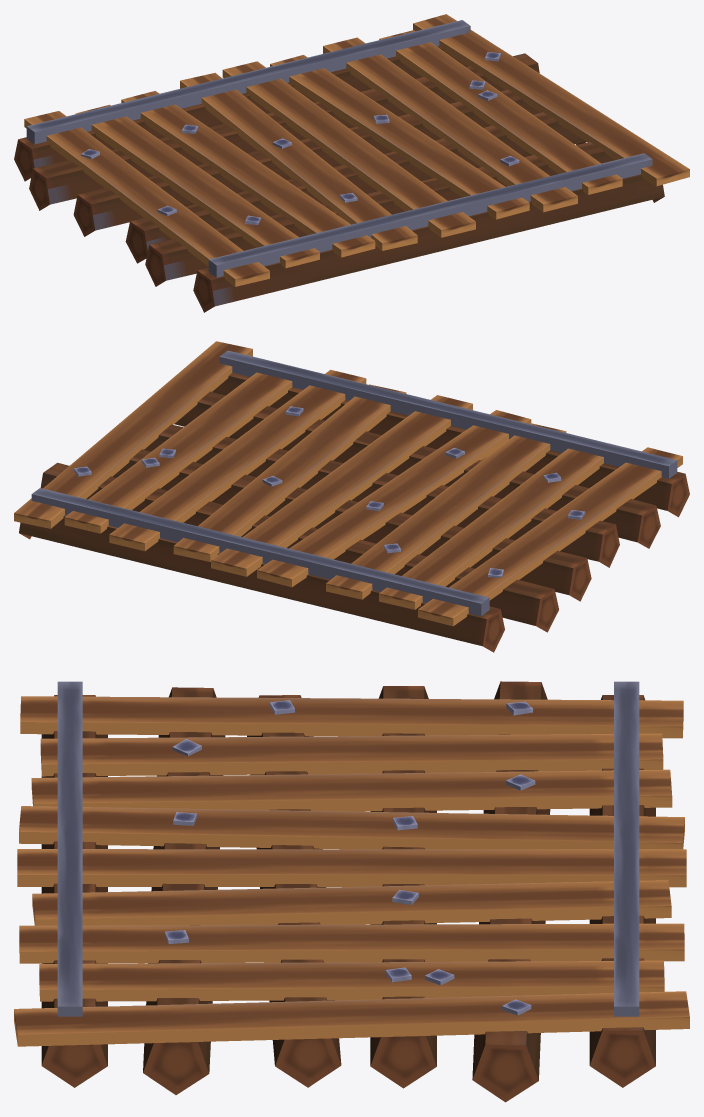
Rendered from Raft.fbx.
3 renders of one model, top to bottom at view 1: azimuth 30°, elevation 25°; view 2: azimuth 150°, elevation 25°; view 3: azimuth 270°, elevation 25°, orthographic. The views are drawn at different scales.
Visible parts, largest first — view 1: raft; view 2: raft; view 3: raft.
Part boxes in pixels (x1,y1,x2,y2): raft: (14, 14, 689, 312); raft: (14, 341, 689, 652); raft: (14, 681, 689, 1102).
Bounding box in the file's own units: 542 × 53.28 × 426.
